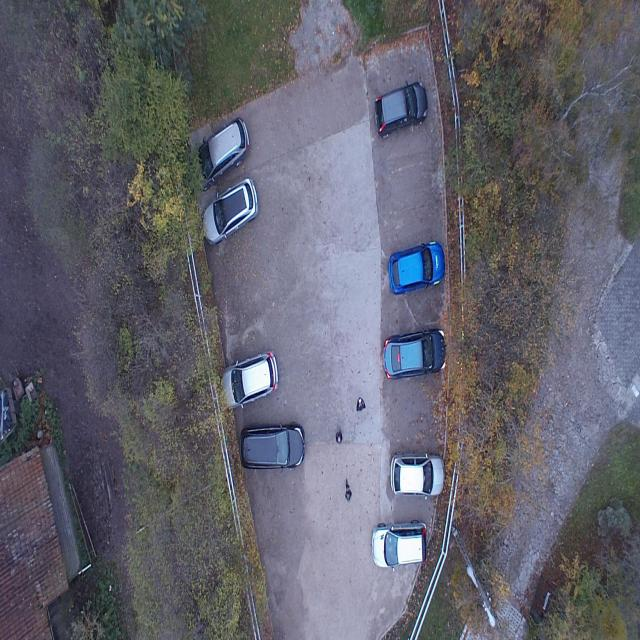p3rson: (345, 478, 352, 502), (356, 397, 366, 412), (336, 432, 343, 444)
